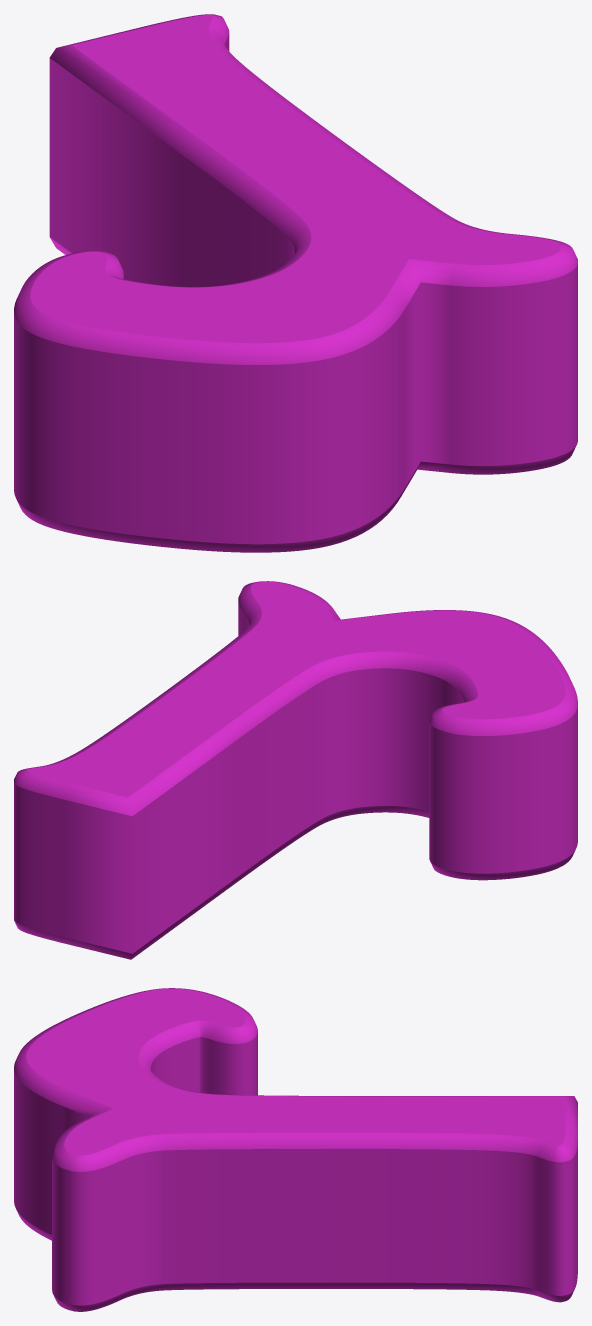
File: Letter_r_Small.fbx
3 views of the same model, one above another, from view 1: azimuth 30°, elevation 25°; view 2: azimuth 150°, elevation 25°; view 3: azimuth 270°, elevation 25° (orthographic). The views are drawn at different scales.
Visible parts, largest first — view 1: Letter_r; view 2: Letter_r; view 3: Letter_r.
Part boxes in pixels (<box>): Letter_r: <box>14,14,577,552</box>; Letter_r: <box>14,581,577,959</box>; Letter_r: <box>14,988,577,1311</box>.
Bounding box in the file's own units: 0.3421 × 0.14 × 0.4592.
